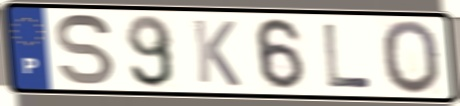6: (252, 15, 310, 94)
9: (124, 12, 179, 91)
K: (190, 17, 243, 89)
L: (321, 21, 374, 91)
O: (378, 18, 444, 97)
S: (53, 11, 118, 89)
